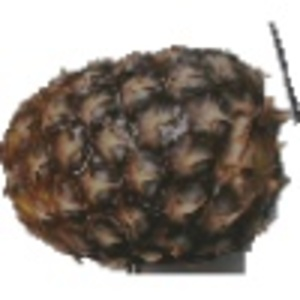abacaxi: (1, 37, 277, 272)
